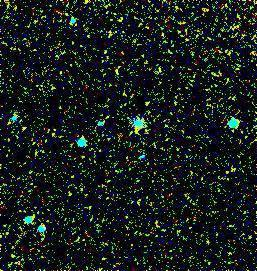star: (132, 87, 162, 117)
